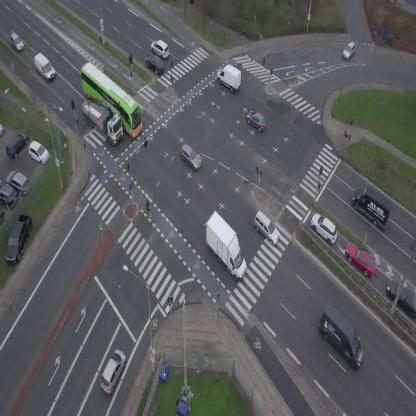bicycle: (143, 200, 153, 218)
bus: (71, 57, 153, 138)
car: (340, 237, 382, 281), (95, 347, 130, 396), (247, 209, 285, 247), (306, 209, 343, 247), (175, 142, 205, 172), (141, 51, 169, 77), (243, 107, 270, 133), (147, 36, 173, 61), (5, 31, 26, 55), (340, 40, 358, 61)
lorry: (191, 210, 262, 283), (307, 301, 376, 371), (74, 91, 132, 147), (344, 182, 399, 233), (212, 60, 246, 94), (29, 51, 59, 81)
